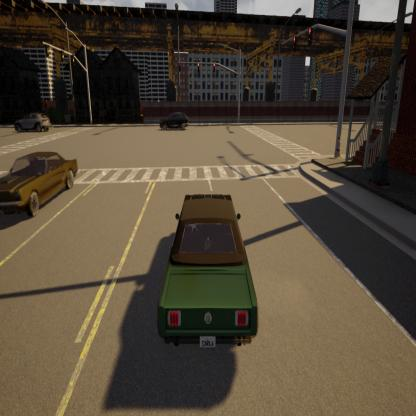Cars: (146, 183, 266, 363), (0, 148, 85, 229), (9, 106, 53, 132), (153, 105, 189, 132)
